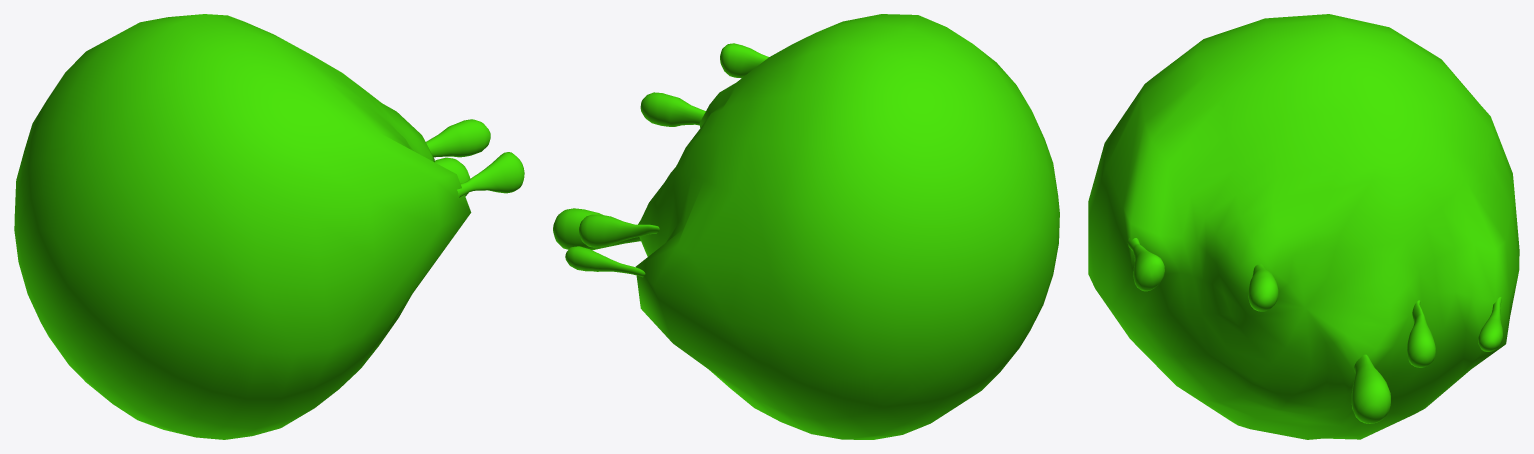
Rendered from bullet_green.fbx.
3 renders of one model, left to right at view 1: azimuth 30°, elevation 25°; view 2: azimuth 150°, elevation 25°; view 3: azimuth 270°, elevation 25°, orthographic. The views are drawn at different scales.
Parts seen in each view (by area): view 1: pasted__pasted__pasted__polySurface21; view 2: pasted__pasted__pasted__polySurface21; view 3: pasted__pasted__pasted__polySurface21.
Part boxes in pixels (x1,y1,x2,y2): pasted__pasted__pasted__polySurface21: (14,14,524,439); pasted__pasted__pasted__polySurface21: (553,14,1059,439); pasted__pasted__pasted__polySurface21: (1088,14,1519,439).
Bounding box in the file's own units: 2.26 × 1.88 × 1.87.
